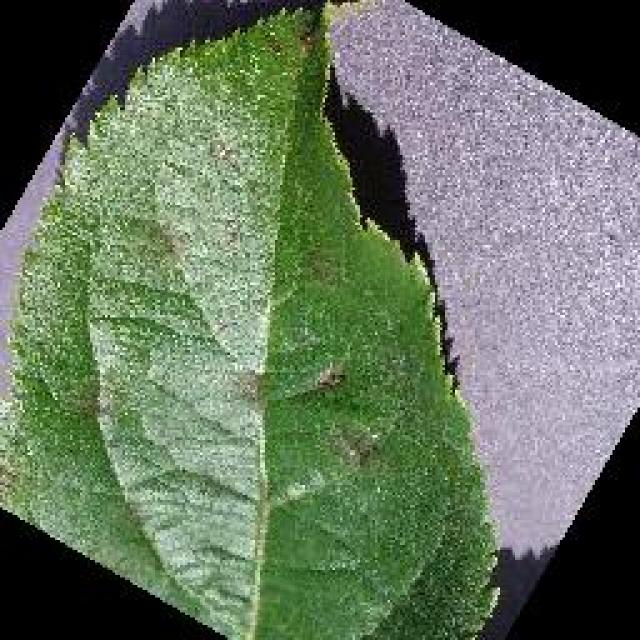apple scab disease: (0, 0, 505, 638)
